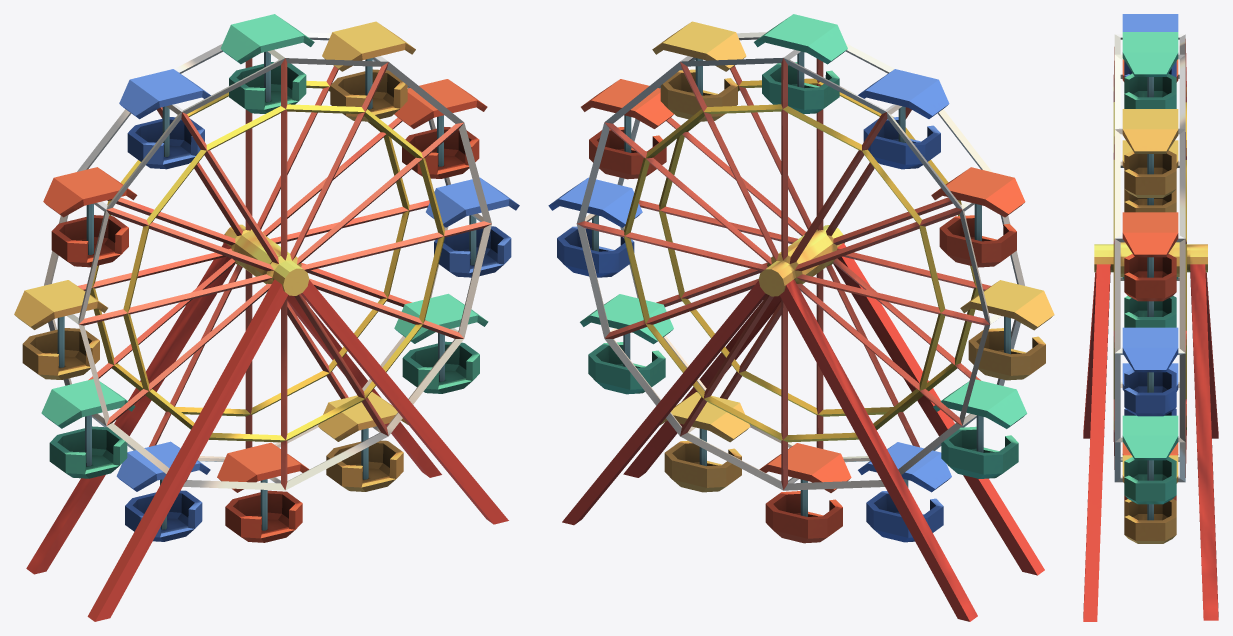
File: PUSHILIN_ferris_wheel.obj
3 views of the same model, side by side, from view 1: azimuth 30°, elevation 25°; view 2: azimuth 150°, elevation 25°; view 3: azimuth 270°, elevation 25° (orthographic). The views are drawn at different scales.
Parts seen in each view (by area): view 1: ferris_wheel; view 2: ferris_wheel; view 3: ferris_wheel.
Boxes of the visible parts, bbox=[...] form: ferris_wheel: bbox=[14, 14, 519, 621]; ferris_wheel: bbox=[548, 14, 1054, 621]; ferris_wheel: bbox=[1083, 14, 1218, 621].
Bounding box in the file's own units: 2.25 × 2.26 × 0.5711.
Materials: 10 (10 with a texture image).
